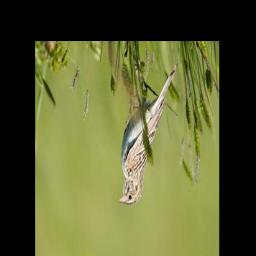Sparrow: (118, 60, 179, 207)
